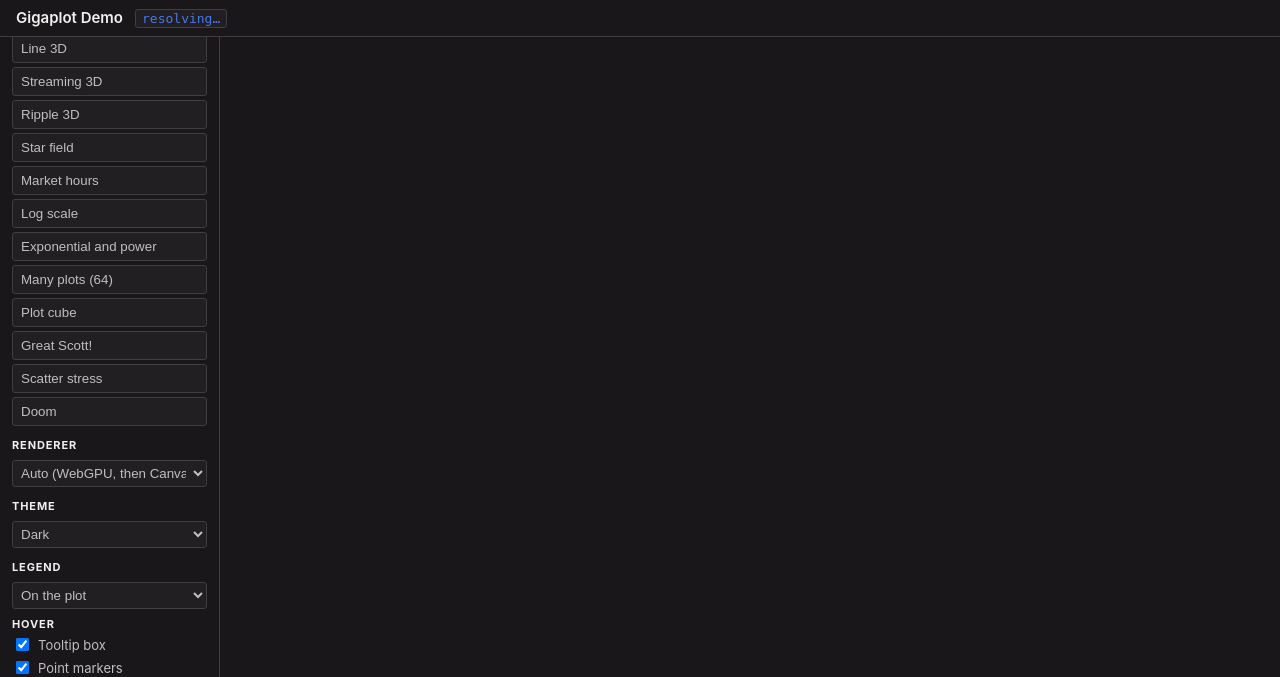
Test case: lets the scatter stress example pick its point count
This screenshot has width=1280, height=677.
Later steps or results of the test are not shown.
(page scrolled)
Click the button with test id "example-scatter-stress" at (110, 378), box [12,364,207,393]
(page scrolled)
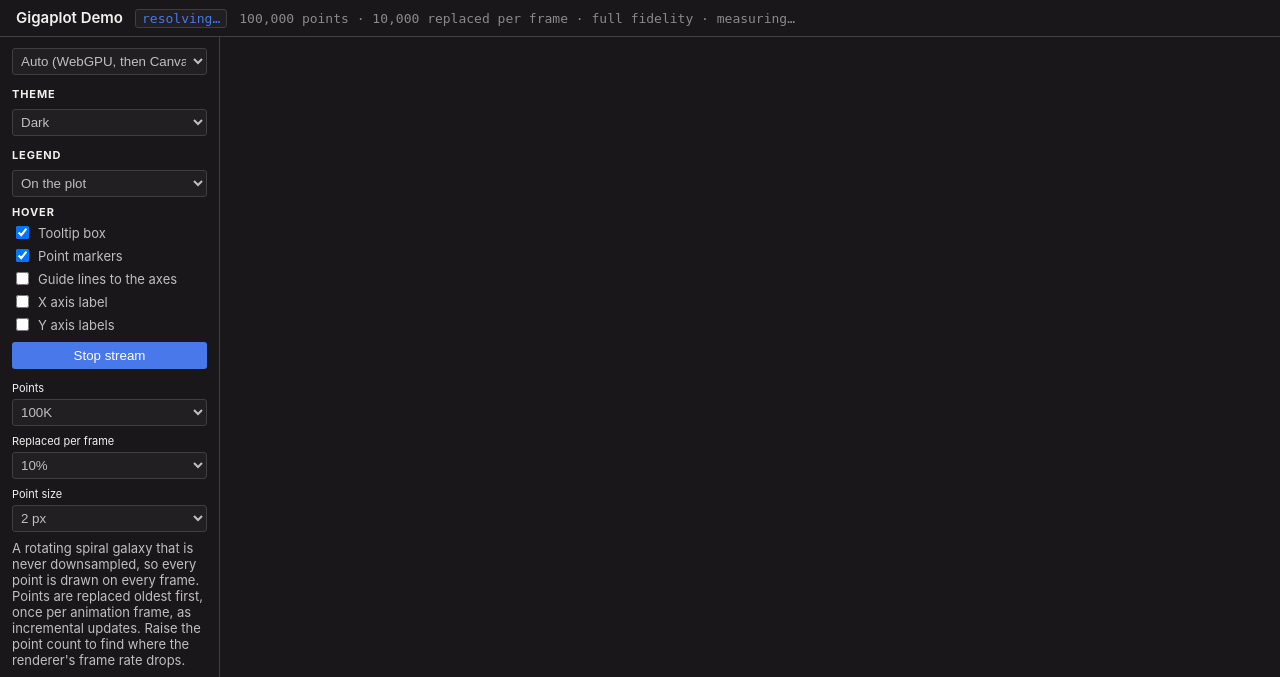
Now the element with test id "plot-stats" shows "100,000 points", box [239,11,349,26]
Select "10K" in the dropdown with test id "stress-point-count" at (110, 412), box [12,399,207,426]
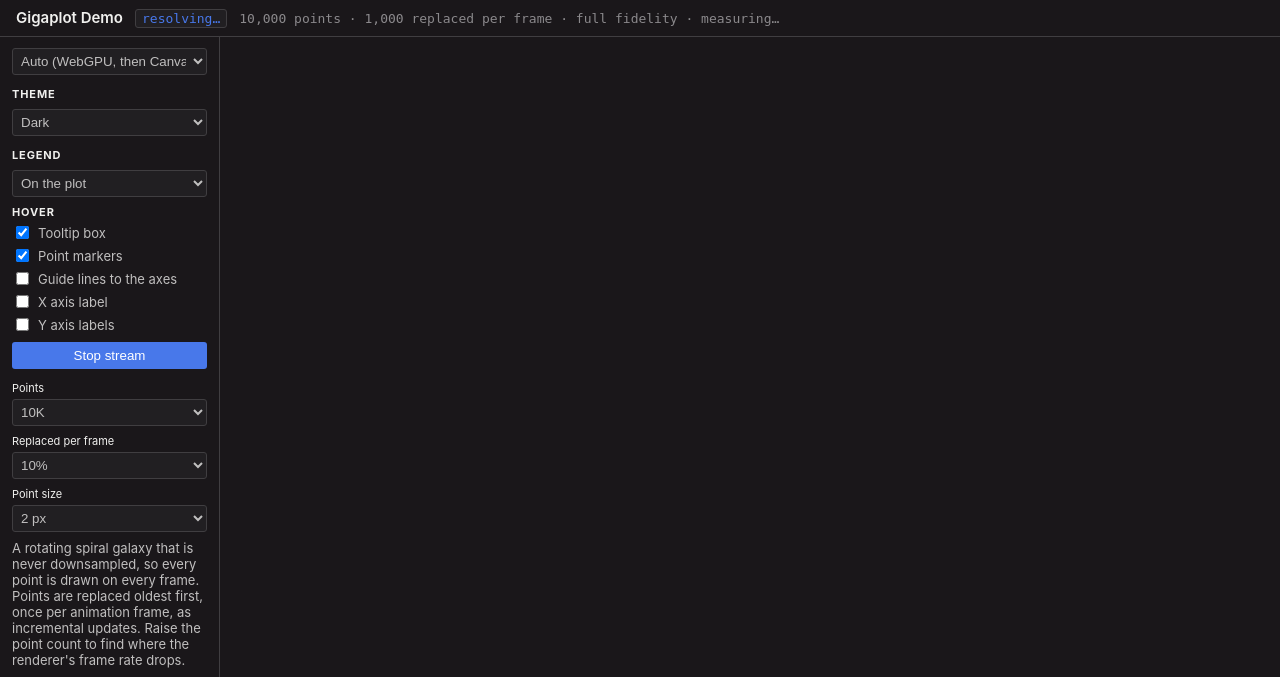
Select "100%" in the dropdown with test id "stress-refresh" at (110, 466), box [12,452,207,479]
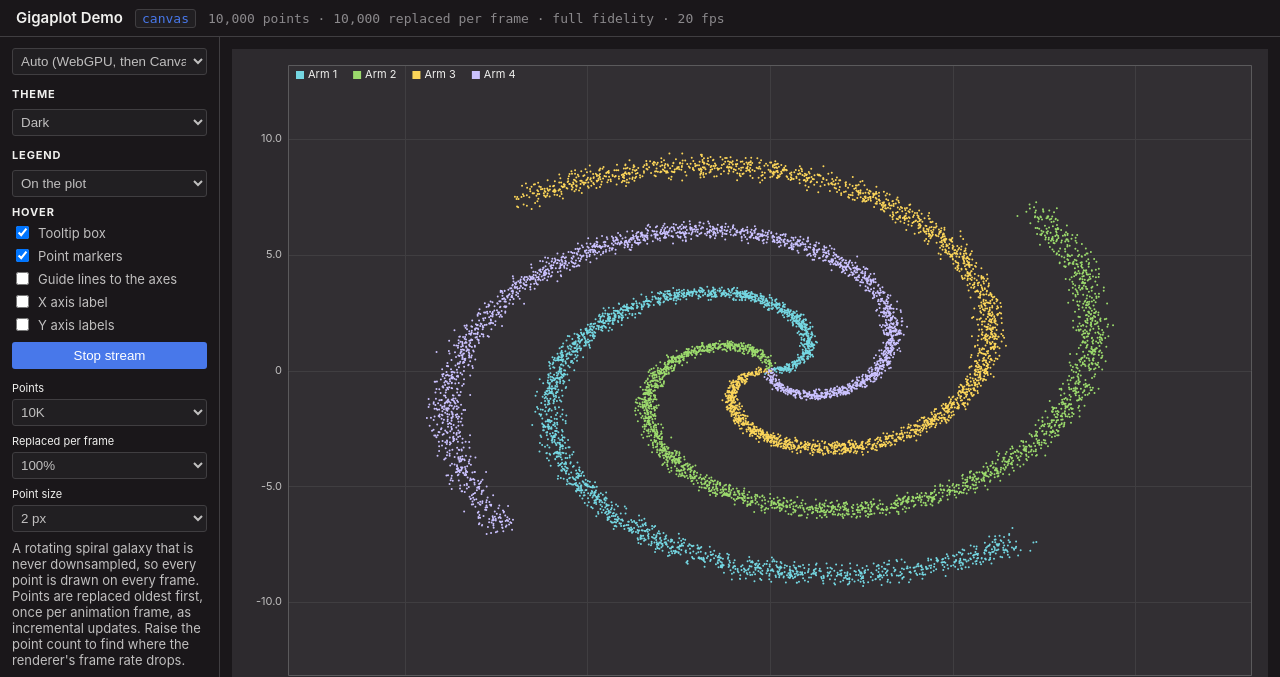
Now the element with test id "plot-stats" shows "10,000 points · 10,000 replaced per frame", box [208,11,725,26]
Now the text with test id "plot-fps" shows "fps", box [678,11,725,26]
